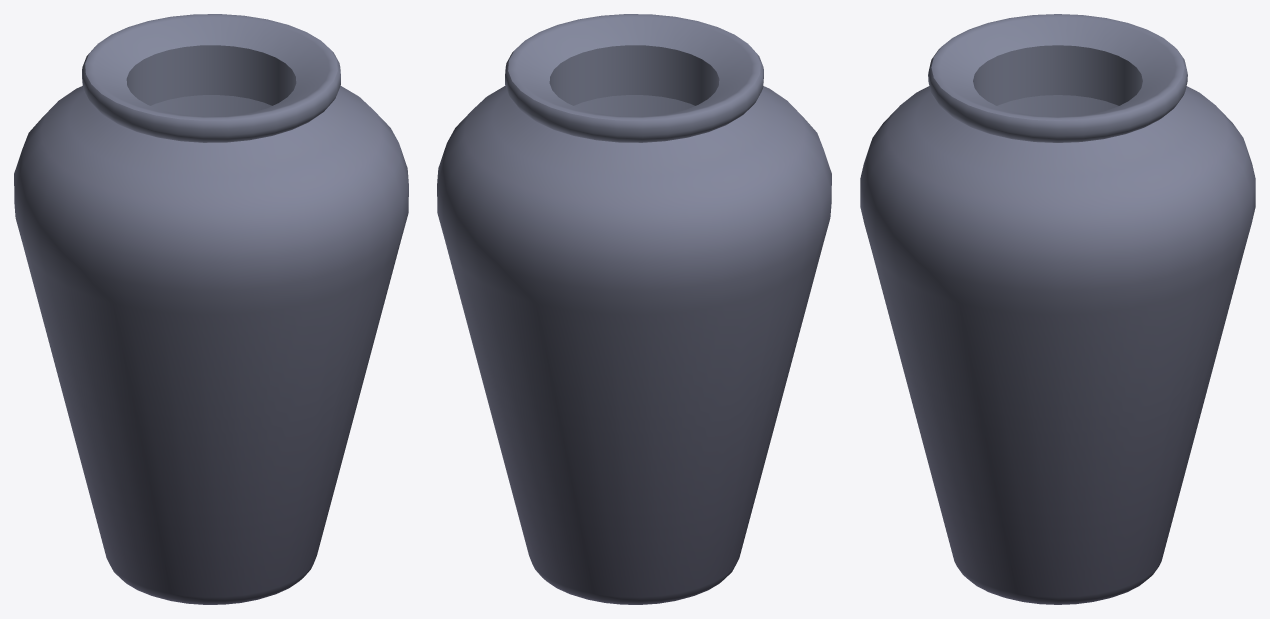
The model's file is Pot4.fbx.
The picture shows the model from 3 angles, left to right: view 1: azimuth 30°, elevation 25°; view 2: azimuth 150°, elevation 25°; view 3: azimuth 270°, elevation 25°; orthographic projection.
Parts seen in each view (by area): view 1: Pot4; view 2: Pot4; view 3: Pot4.
Part boxes in pixels (x1=…): Pot4: x1=14, y1=14, x2=408, y2=604; Pot4: x1=437, y1=14, x2=831, y2=604; Pot4: x1=860, y1=14, x2=1255, y2=604.
Bounding box in the file's own units: 36.71 × 51.29 × 36.71.
